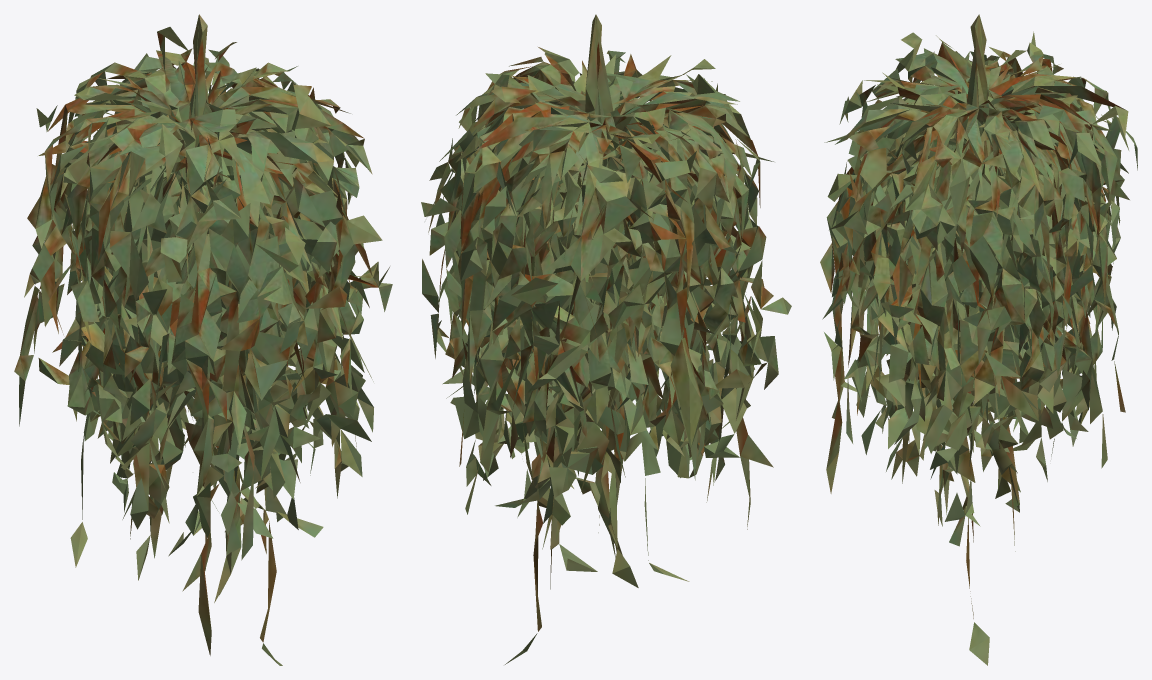
File: liane.glb
3 views of the same model, side by side, from view 1: azimuth 30°, elevation 25°; view 2: azimuth 150°, elevation 25°; view 3: azimuth 270°, elevation 25° (orthographic). The views are drawn at different scales.
Visible parts, largest first — view 1: Mesh_0; view 2: Mesh_0; view 3: Mesh_0.
Part boxes in pixels (<box>): Mesh_0: <box>14,14,392,665</box>; Mesh_0: <box>421,14,791,664</box>; Mesh_0: <box>820,14,1137,665</box>.
Size of the model in its own units: 1.1 by 2.37 by 1.11.
Materials: 1 (1 with a texture image).
